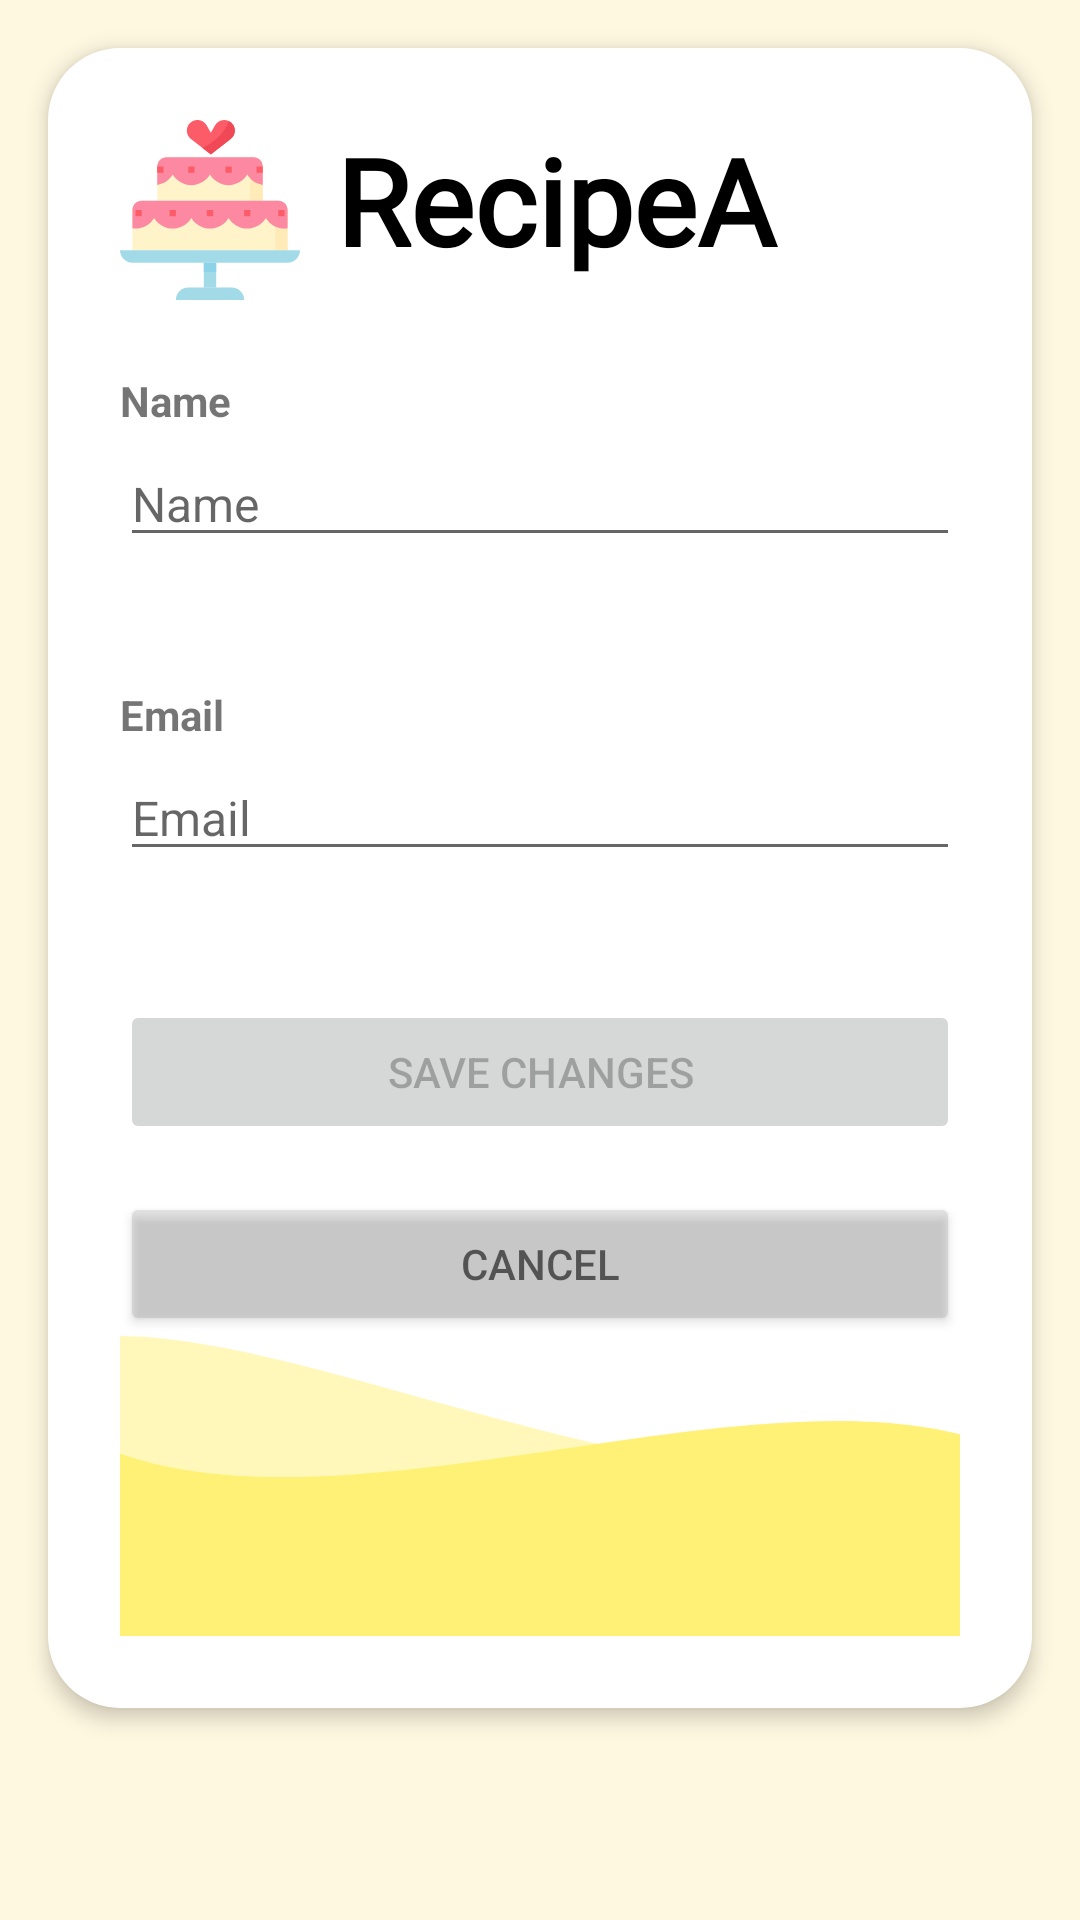

Where icons sit on this 1080×1920 app screen, as BBox(x1, y1, x2, y2):
wedding cake: BBox(120, 120, 300, 300)
